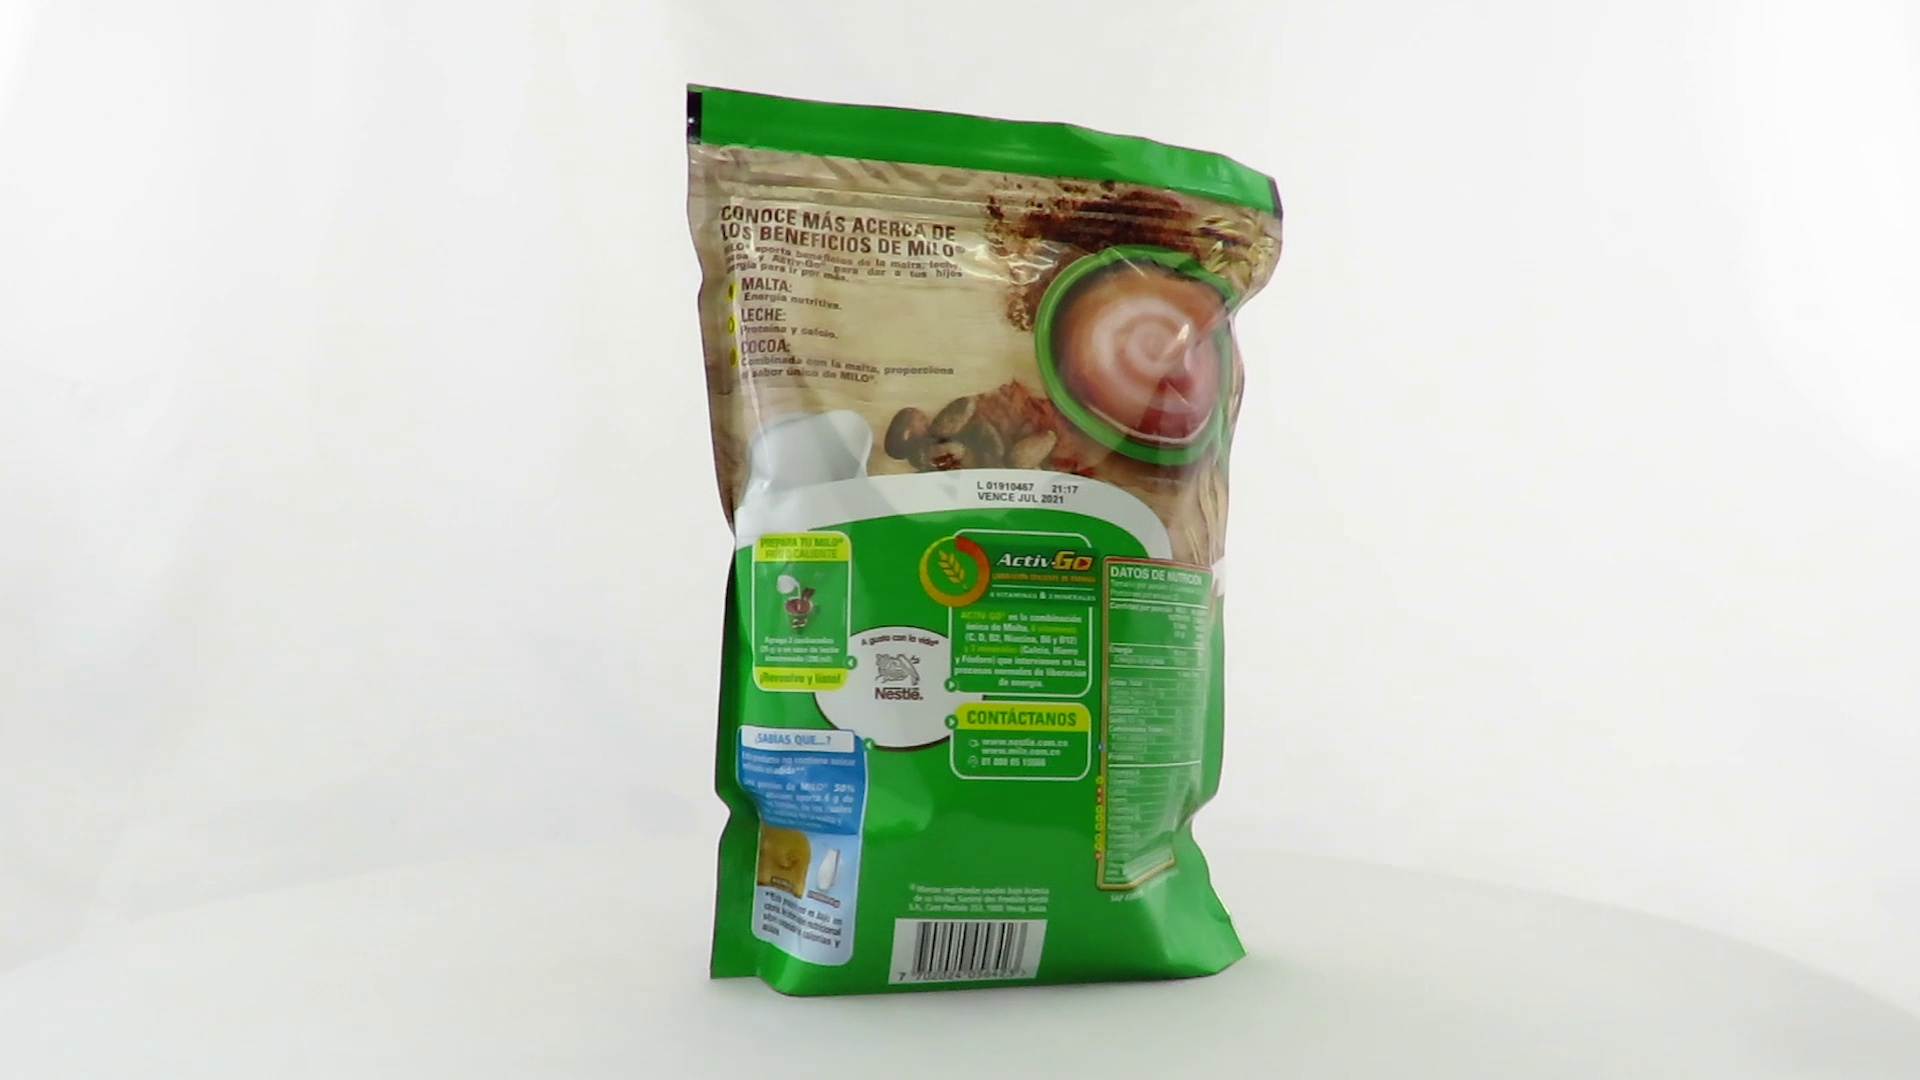COL0170205DYP50000: (680, 78, 1290, 1004)
